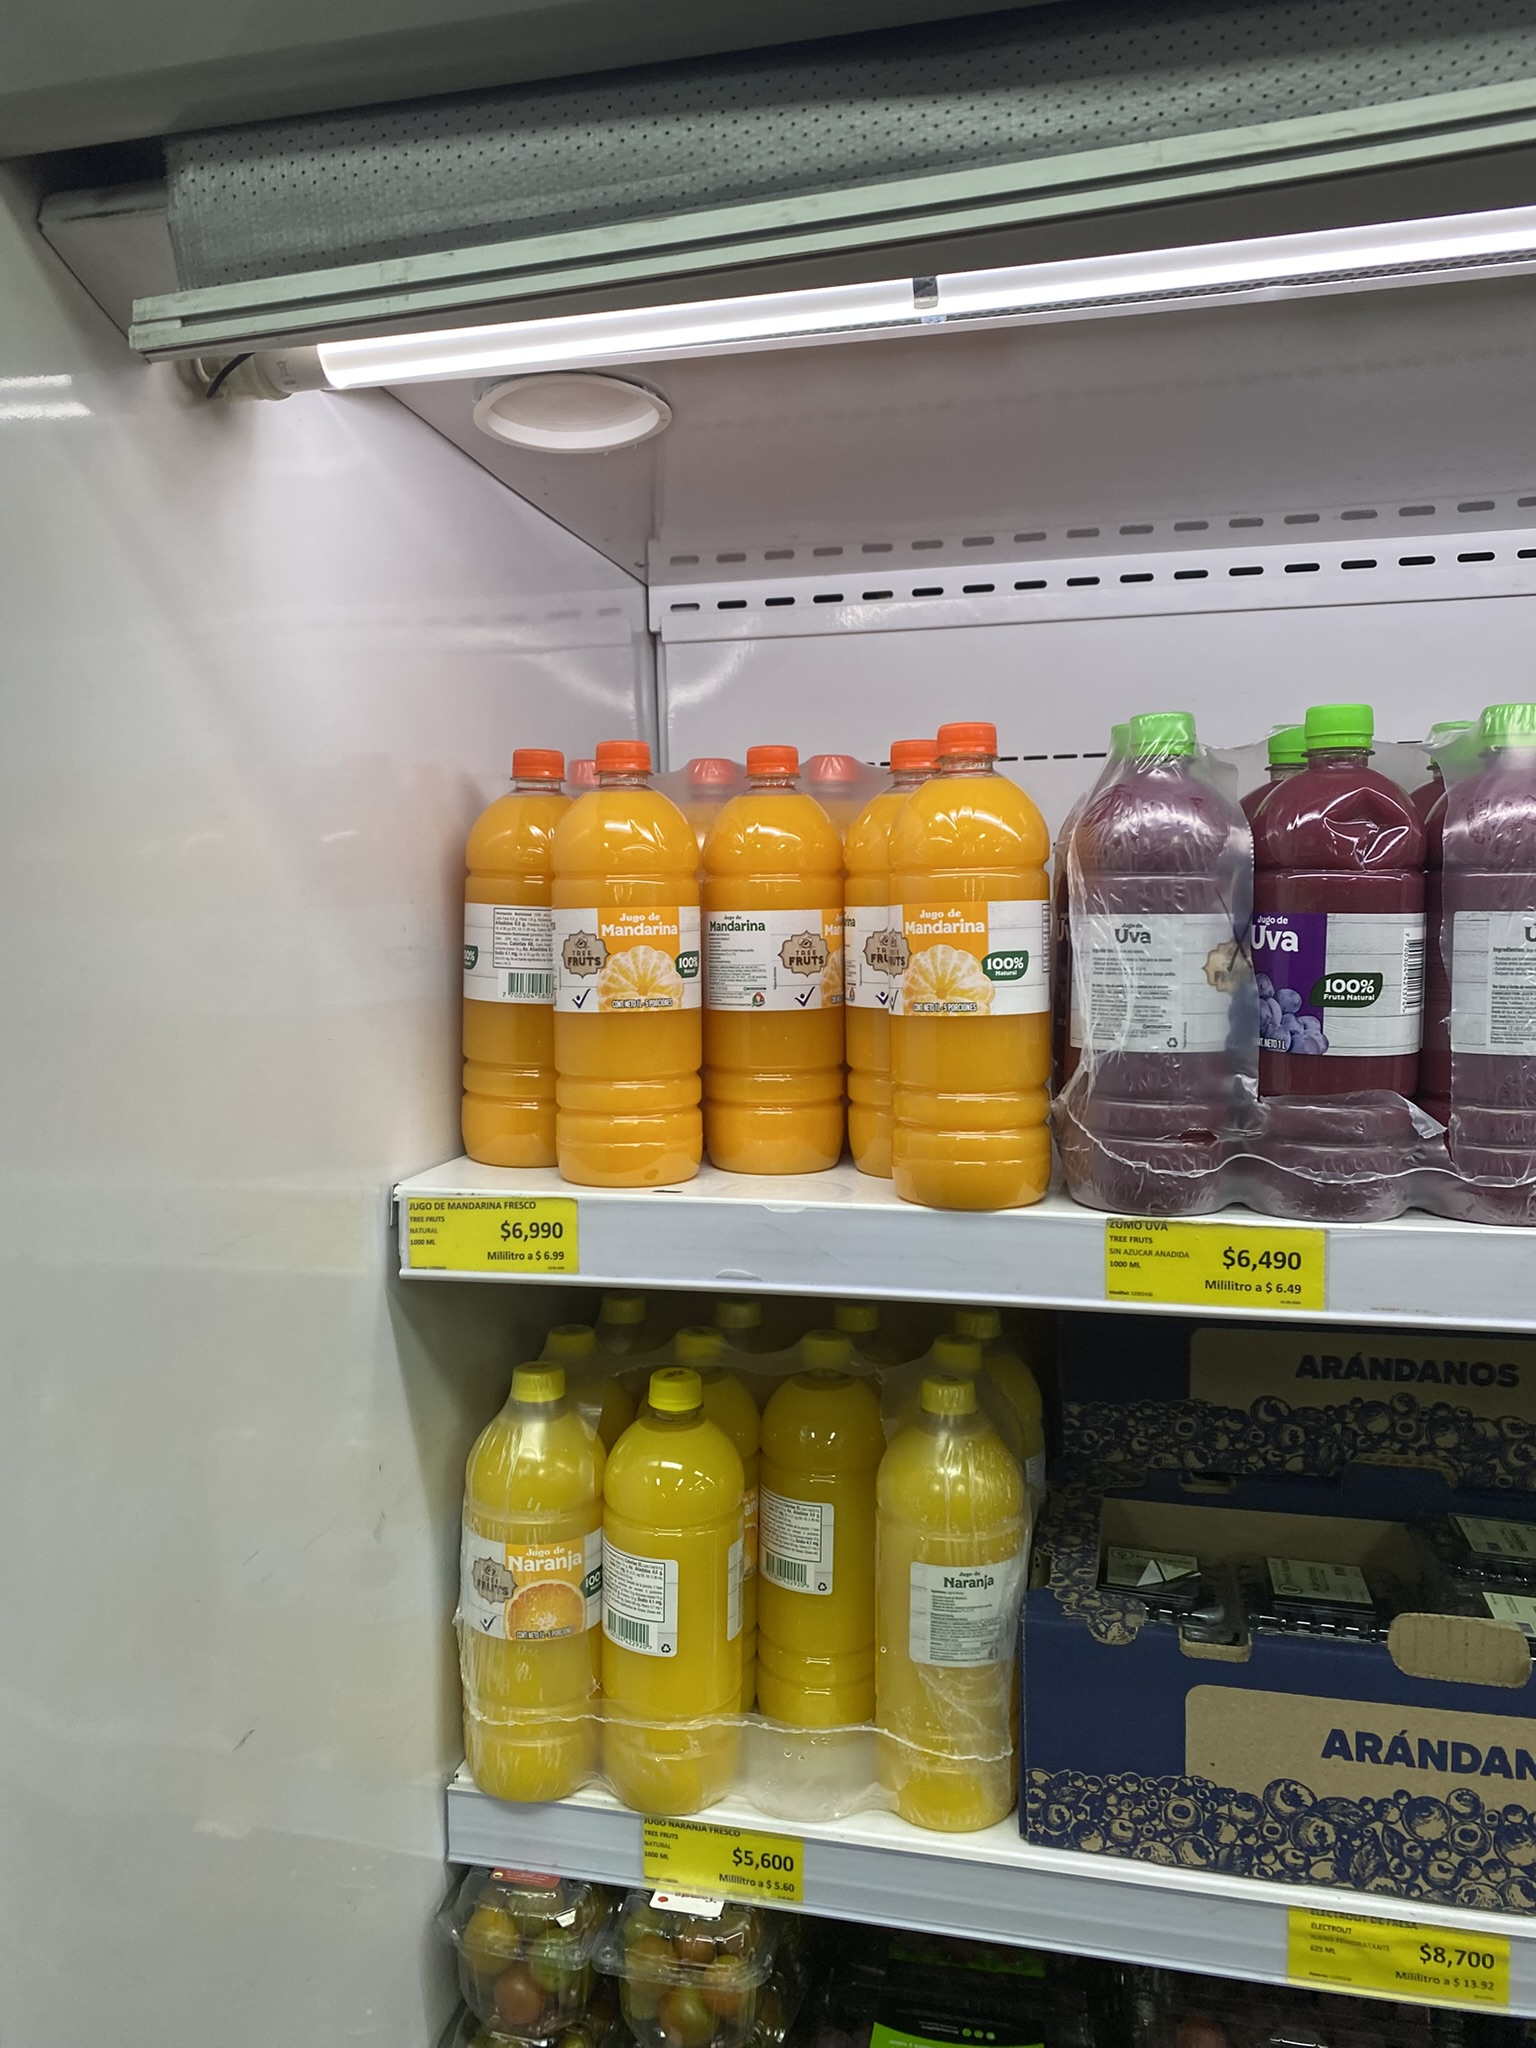Jugo de Mandarina: (884, 731, 1047, 1206), (553, 745, 705, 1190), (707, 750, 847, 1187), (449, 739, 581, 1184)
